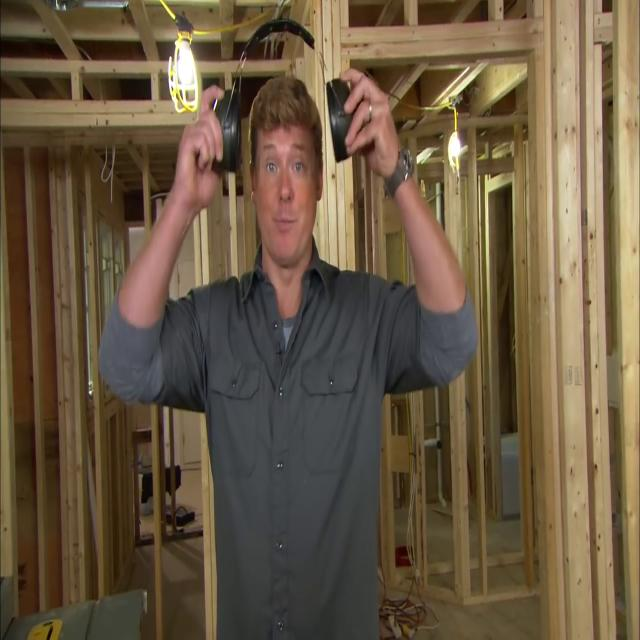earmuff: (204, 75, 243, 177), (325, 70, 357, 164)
